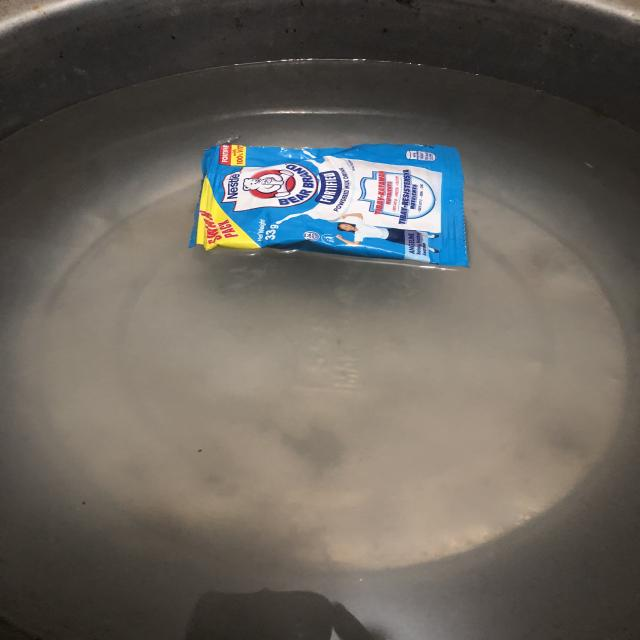Plastic Wrapper: (182, 134, 478, 278)
